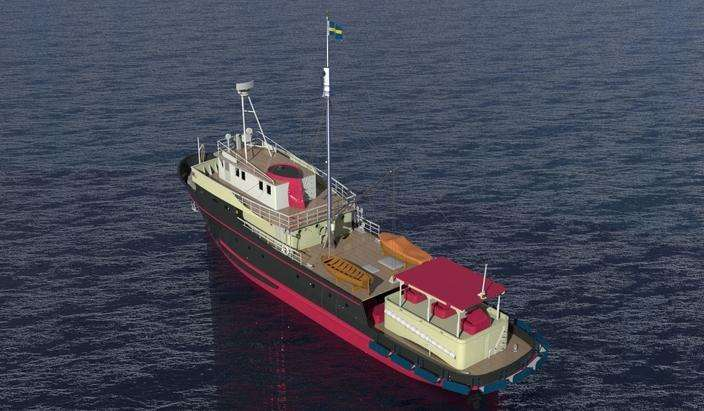Cargoship: (170, 77, 550, 393)
